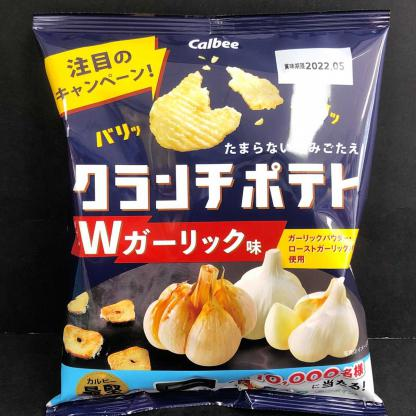potatochip: (22, 2, 398, 416)
